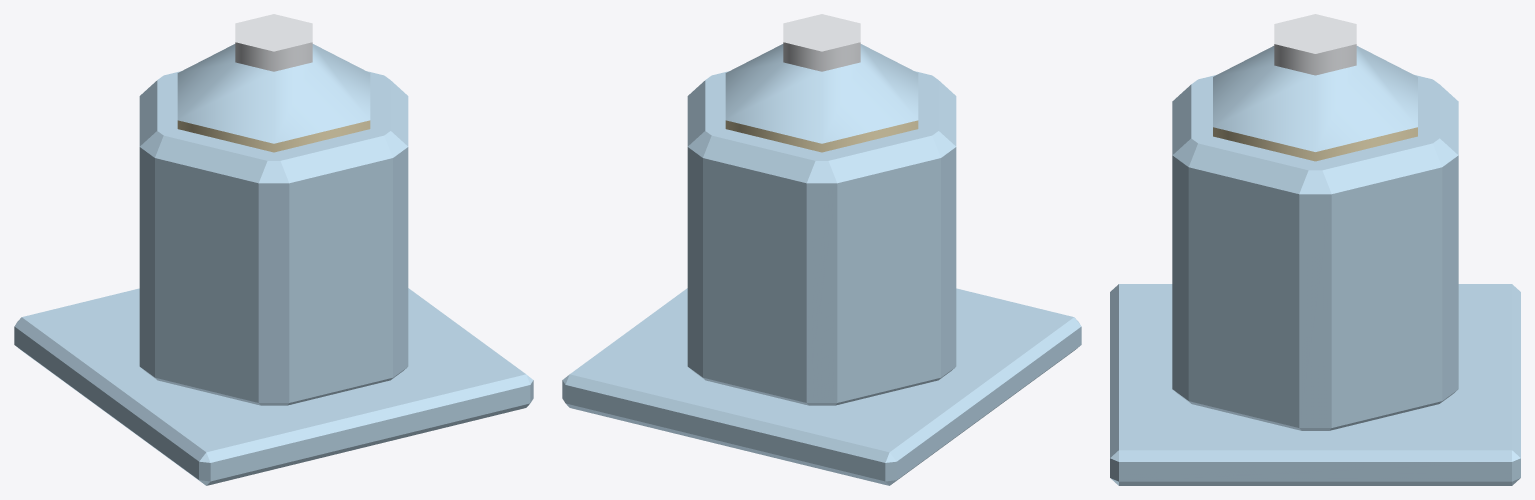
Rendered from R4X_ChargeCapacity_LOD1.glb.
3 renders of one model, left to right at view 1: azimuth 30°, elevation 25°; view 2: azimuth 150°, elevation 25°; view 3: azimuth 270°, elevation 25°, orthographic. The views are drawn at different scales.
Visible parts, largest first — view 1: R4X_ChargeCapacity_LOD1; view 2: R4X_ChargeCapacity_LOD1; view 3: R4X_ChargeCapacity_LOD1.
Boxes of the visible parts, x1,y1,x2,y2 form: R4X_ChargeCapacity_LOD1: (14, 14, 533, 485); R4X_ChargeCapacity_LOD1: (562, 14, 1081, 485); R4X_ChargeCapacity_LOD1: (1110, 14, 1520, 485).
Size of the model in its own units: 0.52 by 0.515 by 0.52.
